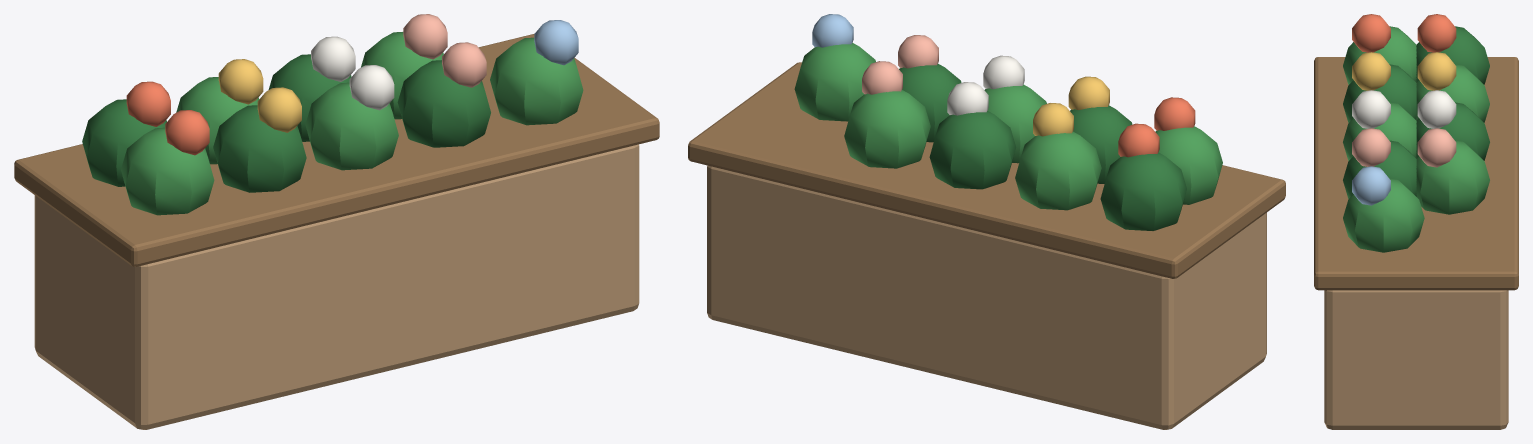
Rendered from t_flowerbox.gltf.
3 renders of one model, left to right at view 1: azimuth 30°, elevation 25°; view 2: azimuth 150°, elevation 25°; view 3: azimuth 270°, elevation 25°, orthographic. The views are drawn at different scales.
Parts seen in each view (by area): view 1: t_flowerbox; view 2: t_flowerbox; view 3: t_flowerbox.
Boxes of the visible parts, <box> form: t_flowerbox: <box>14,14,659,429</box>; t_flowerbox: <box>688,14,1285,429</box>; t_flowerbox: <box>1314,14,1518,429</box>.
Bounding box in the file's own units: 1.26 × 0.65 × 0.5.
1 material, 1 textured.
